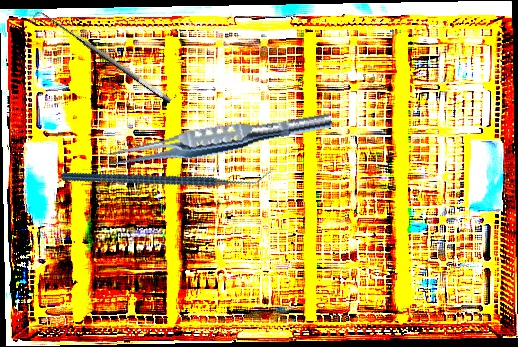Chopper: (59, 101, 273, 250)
Hook Surgical: (29, 4, 174, 115)
Tissue Forceps: (104, 102, 334, 177)
